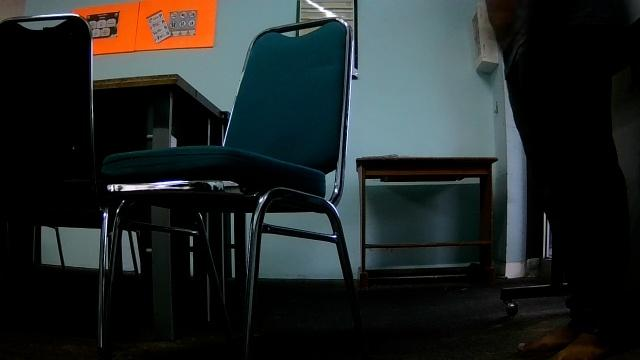Kursi: (101, 15, 366, 359)
